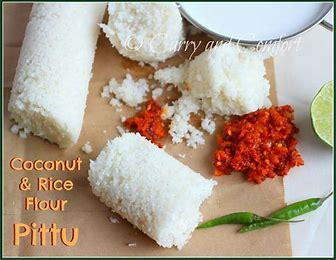Pittu: (17, 2, 106, 151)
